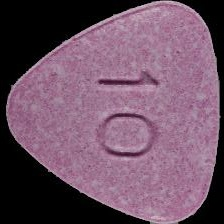54868-6018: (0, 0, 224, 224)
